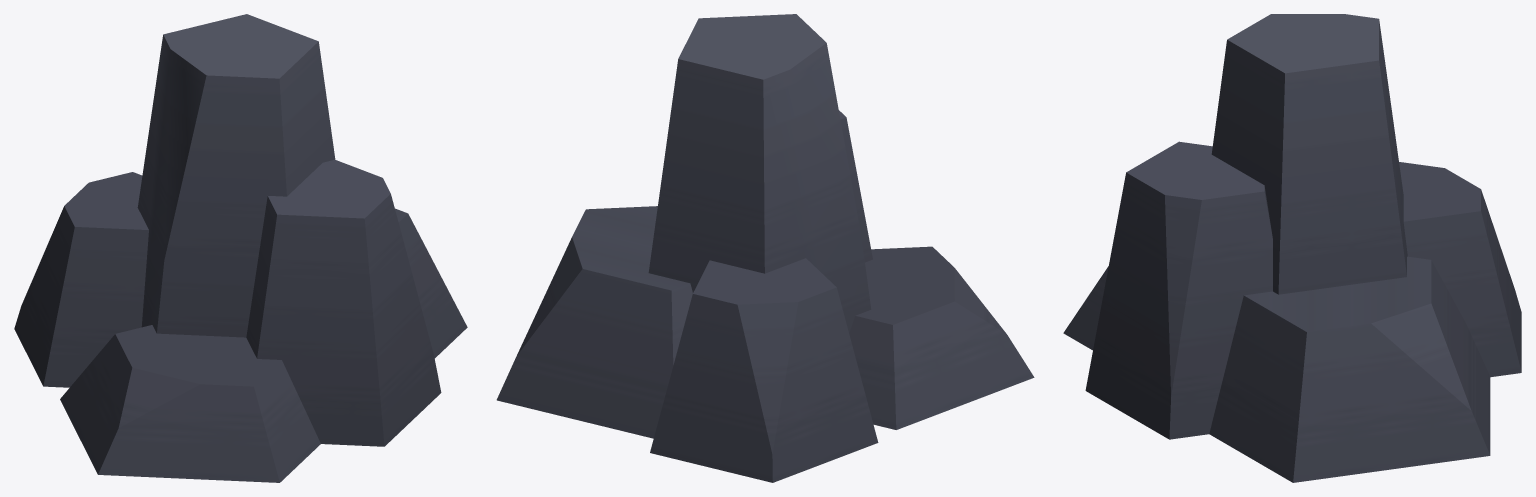
Rendered from rockLarge.fbx.
3 renders of one model, left to right at view 1: azimuth 30°, elevation 25°; view 2: azimuth 150°, elevation 25°; view 3: azimuth 270°, elevation 25°, orthographic. The views are drawn at different scales.
Visible parts, largest first — view 1: rockLarge; view 2: rockLarge; view 3: rockLarge.
Part boxes in pixels (<box>): rockLarge: <box>14,14,467,482</box>; rockLarge: <box>496,14,1034,482</box>; rockLarge: <box>1063,14,1521,482</box>.
Size of the model in its own units: 1.6 by 1.45 by 1.16.
